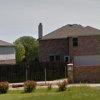Chimney: (32, 18, 46, 40)
